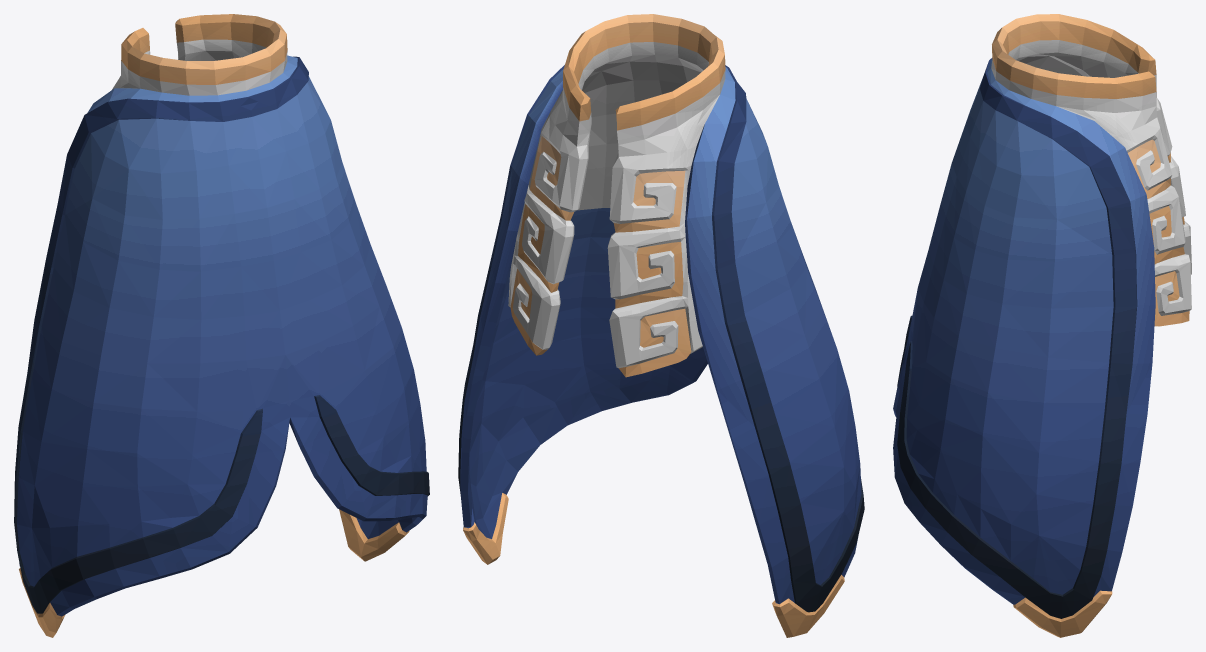
Rendered from CharSkyKid_Wing_AP23PianistCloak.glb.
The picture shows the model from 3 angles, left to right: view 1: azimuth 30°, elevation 25°; view 2: azimuth 150°, elevation 25°; view 3: azimuth 270°, elevation 25°; orthographic projection. The views are drawn at different scales.
Visible parts, largest first — view 1: CharSkyKid_Wing_AP23PianistCloak; view 2: CharSkyKid_Wing_AP23PianistCloak; view 3: CharSkyKid_Wing_AP23PianistCloak.
Boxes of the visible parts, x1,y1,x2,y2 form: CharSkyKid_Wing_AP23PianistCloak: [14, 14, 429, 637]; CharSkyKid_Wing_AP23PianistCloak: [458, 14, 864, 637]; CharSkyKid_Wing_AP23PianistCloak: [893, 14, 1191, 637].
Bounding box in the file's own units: 6.02 × 8.66 × 4.44.
Materials: 1 (1 with a texture image).
